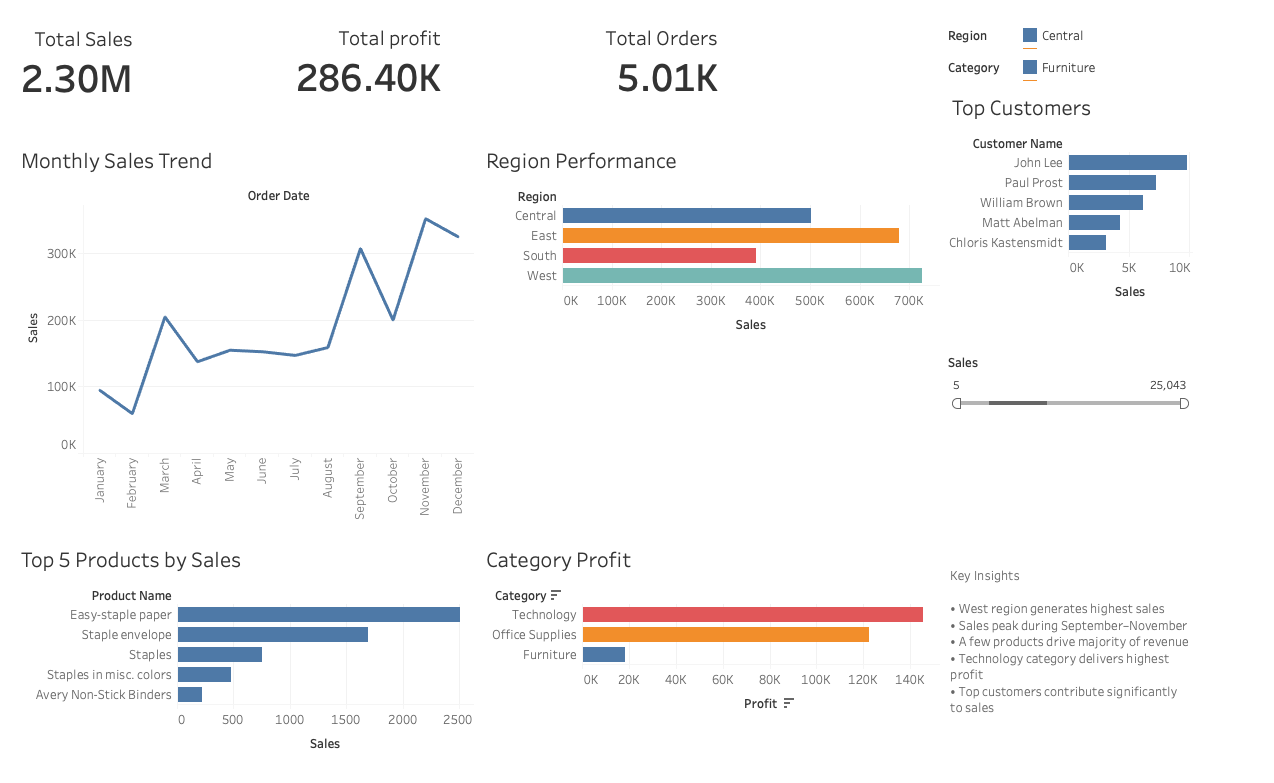

This screenshot's page, from the dashboard's own definition file:
{"tool":"tableau","page":{"name":"Dashboard 1","canvas":[1200,800],"ordinal":0},"visuals":[{"type":"worksheet","title":"Total sales","mark":"Automatic","box":[8,8,268,117]},{"type":"worksheet","title":"Total profit","mark":"Automatic","box":[276,8,296.6,117]},{"type":"worksheet","title":"Total Orders","mark":"Automatic","box":[572.6,8,366.4,117]},{"type":"legend","title":"Region Performance","param":"[federated.0fzv3i402p0e1c18ikd6f1xirp5n].[none:Region:nk]","box":[939,8,253,32]},{"type":"legend","title":"Category Profit","param":"[federated.0fzv3i402p0e1c18ikd6f1xirp5n].[none:Category:nk]","box":[939,40,253,32]},{"type":"worksheet","title":"Top Customers","mark":"Automatic","rows":["Customer Name"],"cols":["Sales"],"box":[939,72,253,265]},{"type":"worksheet","title":"Monthly Sales Trend","mark":"Automatic","rows":["Sales"],"cols":["Order Date"],"box":[8,125,465.5,399]},{"type":"worksheet","title":"Region Performance","mark":"Automatic","rows":["Region"],"cols":["Sales"],"box":[473.5,125,465.5,399]},{"type":"filter","title":"Top Customers","param":"[federated.0fzv3i402p0e1c18ikd6f1xirp5n].[sum:Sales:qk]","box":[939,337,253,132]},{"type":"text","box":[939,469,253,323]},{"type":"worksheet","title":"Top 5 Products by Sales","mark":"Automatic","rows":["Product Name"],"cols":["Sales"],"box":[8,524,465.5,268]},{"type":"worksheet","title":"Category Profit","mark":"Automatic","rows":["Category"],"cols":["Profit"],"box":[473.5,524,465.5,268]}]}

Visuals, with their boxes on the page's 1200x800 design canvas (x1, y1, x2, y2). These are canvas units, not pixel positions in the 1274x783 screenshot, which may show the page scaled, cropped or inside an application window:
"Total sales" worksheet: <bbox>8, 8, 276, 125</bbox>
"Total profit" worksheet: <bbox>276, 8, 573, 125</bbox>
"Total Orders" worksheet: <bbox>573, 8, 939, 125</bbox>
"Region Performance" legend: <bbox>939, 8, 1192, 40</bbox>
"Category Profit" legend: <bbox>939, 40, 1192, 72</bbox>
"Top Customers" worksheet: <bbox>939, 72, 1192, 337</bbox>
"Monthly Sales Trend" worksheet: <bbox>8, 125, 474, 524</bbox>
"Region Performance" worksheet: <bbox>474, 125, 939, 524</bbox>
"Top Customers" filter: <bbox>939, 337, 1192, 469</bbox>
text: <bbox>939, 469, 1192, 792</bbox>
"Top 5 Products by Sales" worksheet: <bbox>8, 524, 474, 792</bbox>
"Category Profit" worksheet: <bbox>474, 524, 939, 792</bbox>
